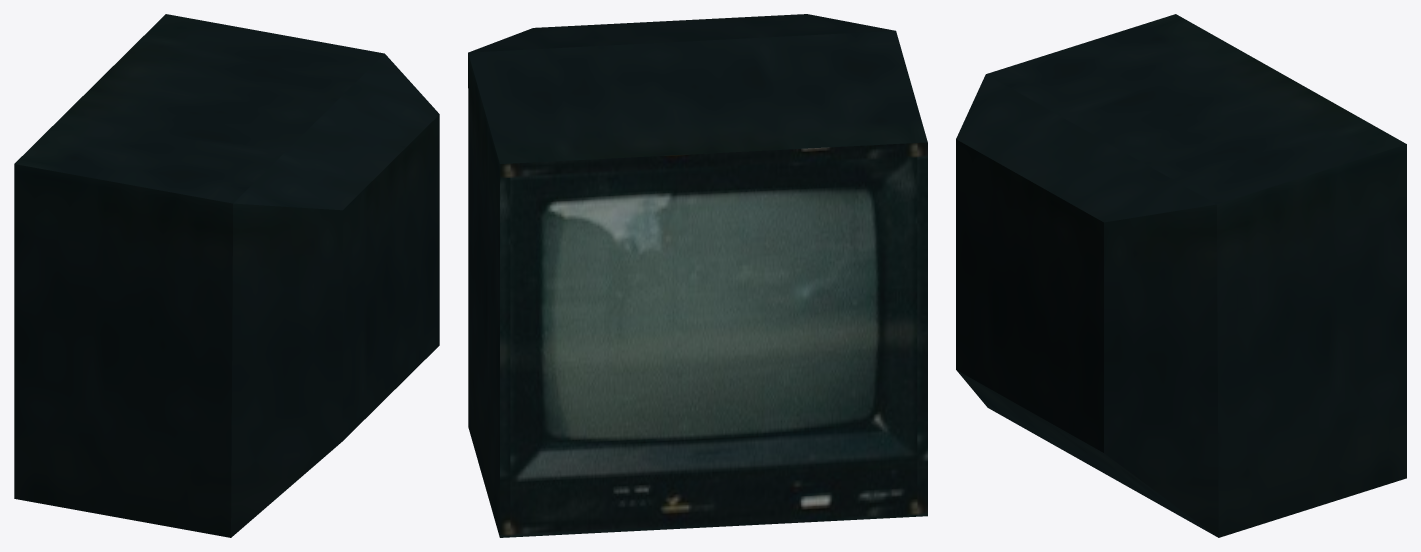
3 renders of one model, left to right at view 1: azimuth 30°, elevation 25°; view 2: azimuth 150°, elevation 25°; view 3: azimuth 270°, elevation 25°, orthographic. The views are drawn at different scales.
Parts seen in each view (by area): view 1: Cube190_TV_05_0; view 2: Cube190_TV_05_0; view 3: Cube190_TV_05_0.
Part boxes in pixels (x1,y1,x2,y2): Cube190_TV_05_0: [14, 14, 439, 537]; Cube190_TV_05_0: [468, 14, 927, 537]; Cube190_TV_05_0: [956, 14, 1406, 537].
Size of the model in its own units: 0.7423 by 0.6071 by 0.7427.
Materials: 1 (1 with a texture image).
